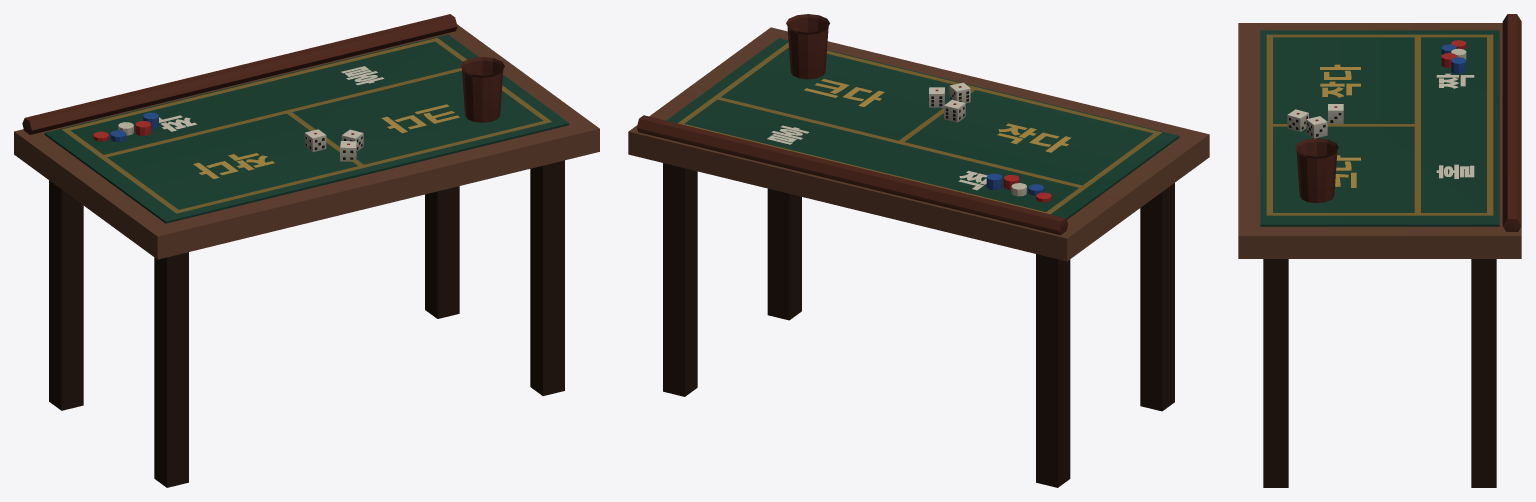
The model's file is table_dice.glb.
3 renders of one model, left to right at view 1: azimuth 30°, elevation 25°; view 2: azimuth 150°, elevation 25°; view 3: azimuth 270°, elevation 25°, orthographic.
Visible parts, largest first — view 1: table_dice, cup; view 2: table_dice, cup; view 3: table_dice, cup, die_1, die_2, die_0.
Boxes of the visible parts, box(x1,y1,x2,y2) form: table_dice: box(14, 14, 599, 487); cup: box(460, 57, 504, 122); table_dice: box(628, 27, 1209, 487); cup: box(786, 14, 829, 79); table_dice: box(1238, 14, 1521, 487); cup: box(1295, 138, 1338, 203); die_1: box(1306, 116, 1327, 138); die_2: box(1287, 109, 1308, 131); die_0: box(1328, 104, 1343, 123).
Bounding box in the file's own units: 1.6 × 1.1 × 0.9.
